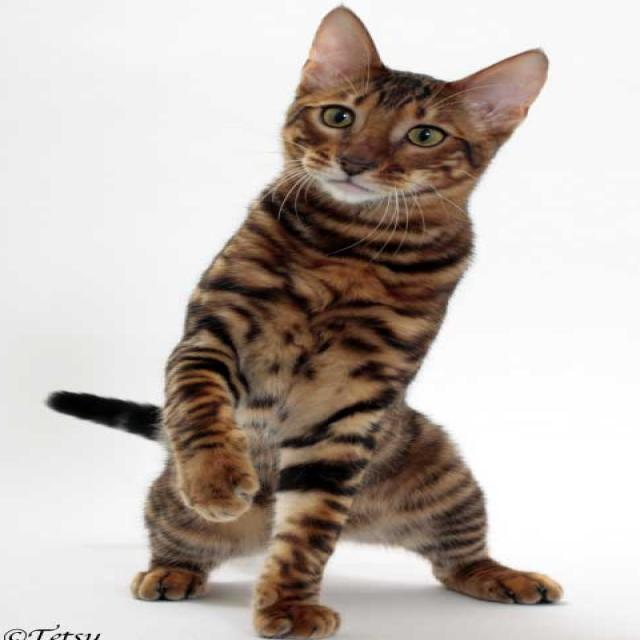Toyger: (38, 1, 570, 640)
